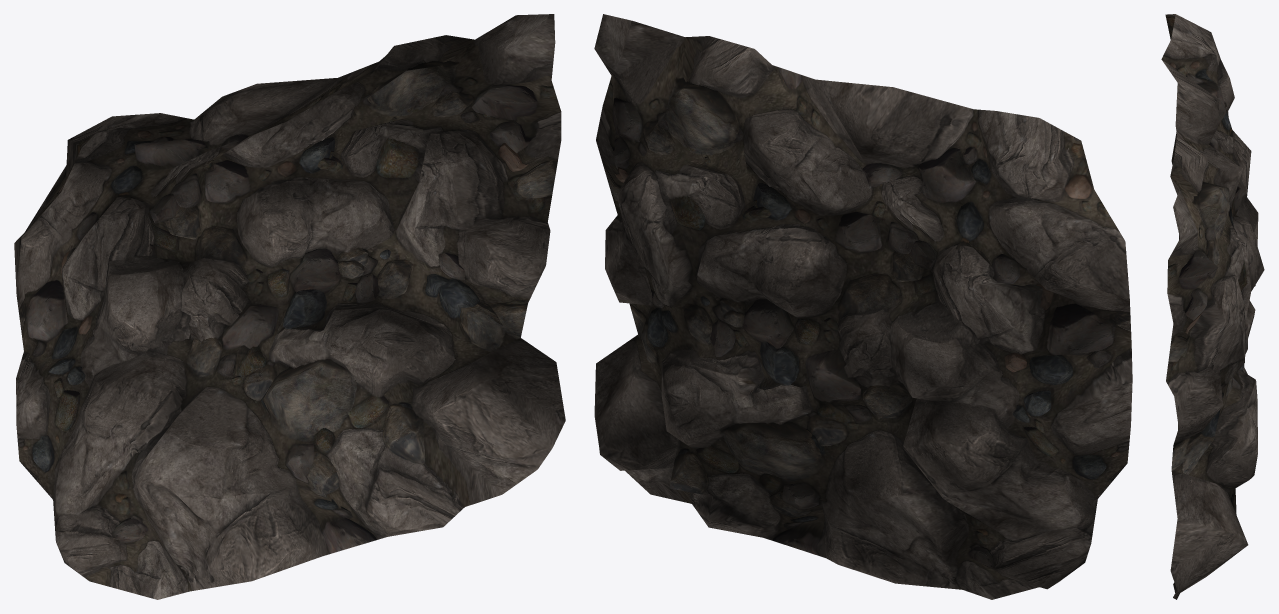
The model's file is RockGround_01.fbx.
3 views of the same model, side by side, from view 1: azimuth 30°, elevation 25°; view 2: azimuth 150°, elevation 25°; view 3: azimuth 270°, elevation 25° (orthographic). The views are drawn at different scales.
Parts seen in each view (by area): view 1: RockGround_01; view 2: RockGround_01; view 3: RockGround_01.
Part boxes in pixels (left/top/right/bottom): RockGround_01: left=14, top=14, right=565, bottom=599; RockGround_01: left=594, top=14, right=1132, bottom=599; RockGround_01: left=1161, top=14, right=1264, bottom=599.
Size of the model in its own units: 10.1 by 8.88 by 1.88.
